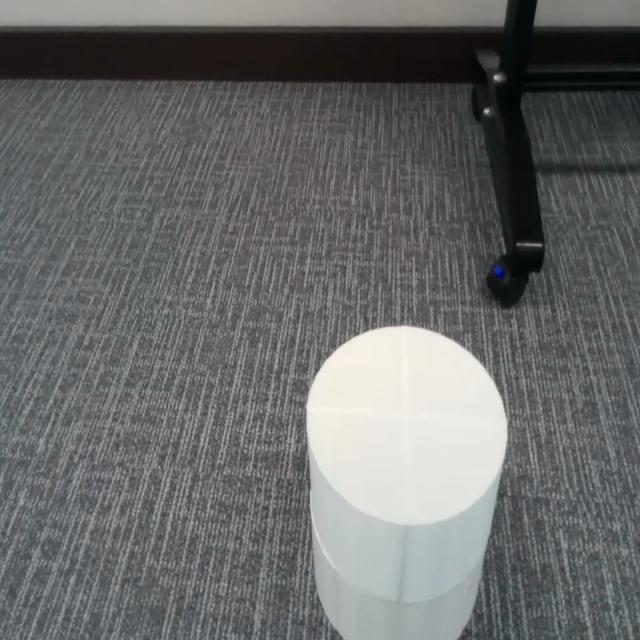cylinder: (302, 323, 509, 637)
